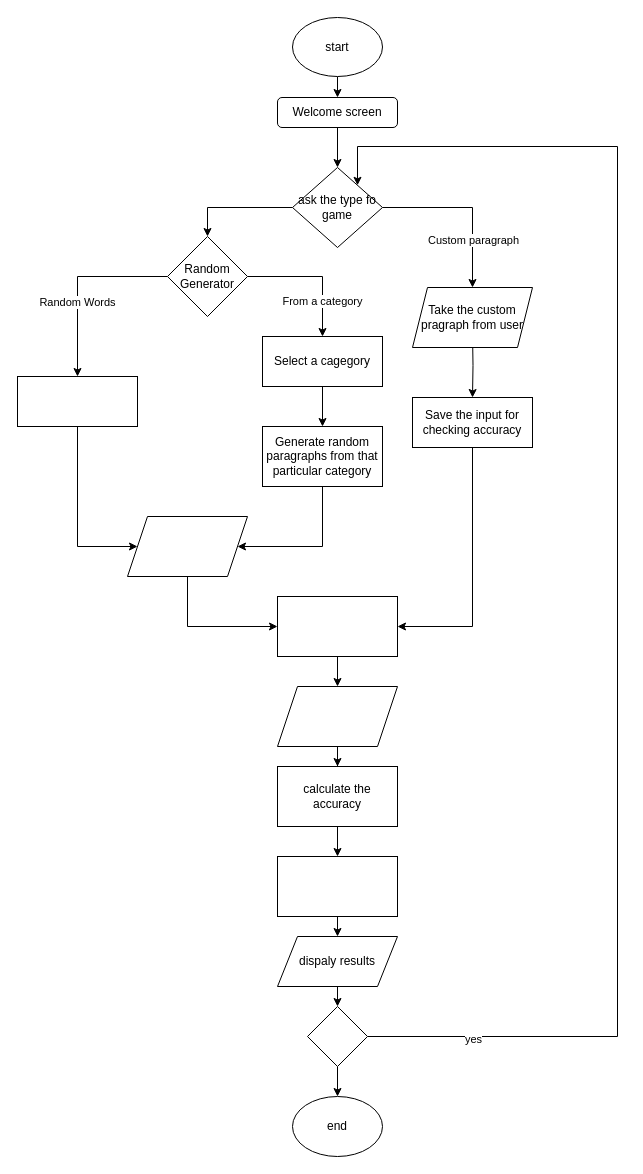
Some shapes in this 643 by 1174 pixel diagram are drawn without their labels. Here are the shapes that lost their labels. From the top down, the centre of each, then its label:
At (x=77, y=401): "Generate collection of N number of Random words".
At (x=187, y=546): "Display the words".
At (x=337, y=626): "Start count down".
At (x=337, y=716): "Take the inputs from the user".
At (x=337, y=886): "calculate WPM".
At (x=337, y=1036): "retry?".
